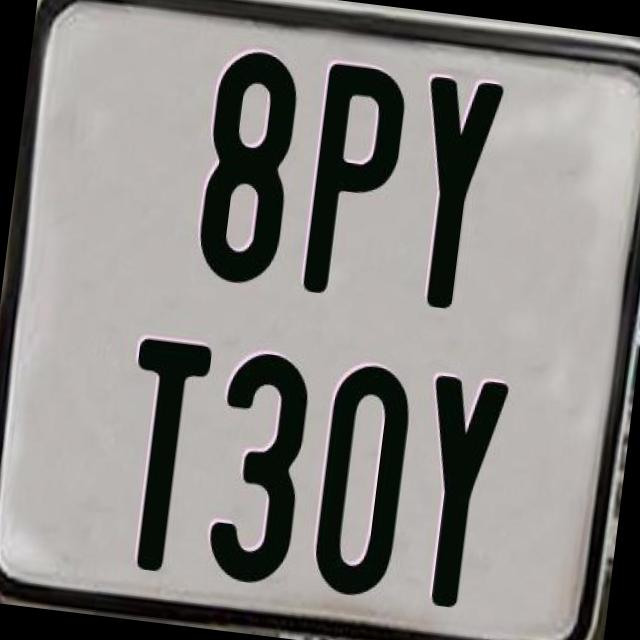0: (308, 358, 418, 596)
3: (204, 349, 316, 590)
8: (194, 44, 310, 286)
P: (301, 59, 413, 302)
T: (112, 332, 214, 570)
Y: (406, 374, 516, 618), (400, 72, 506, 315)
